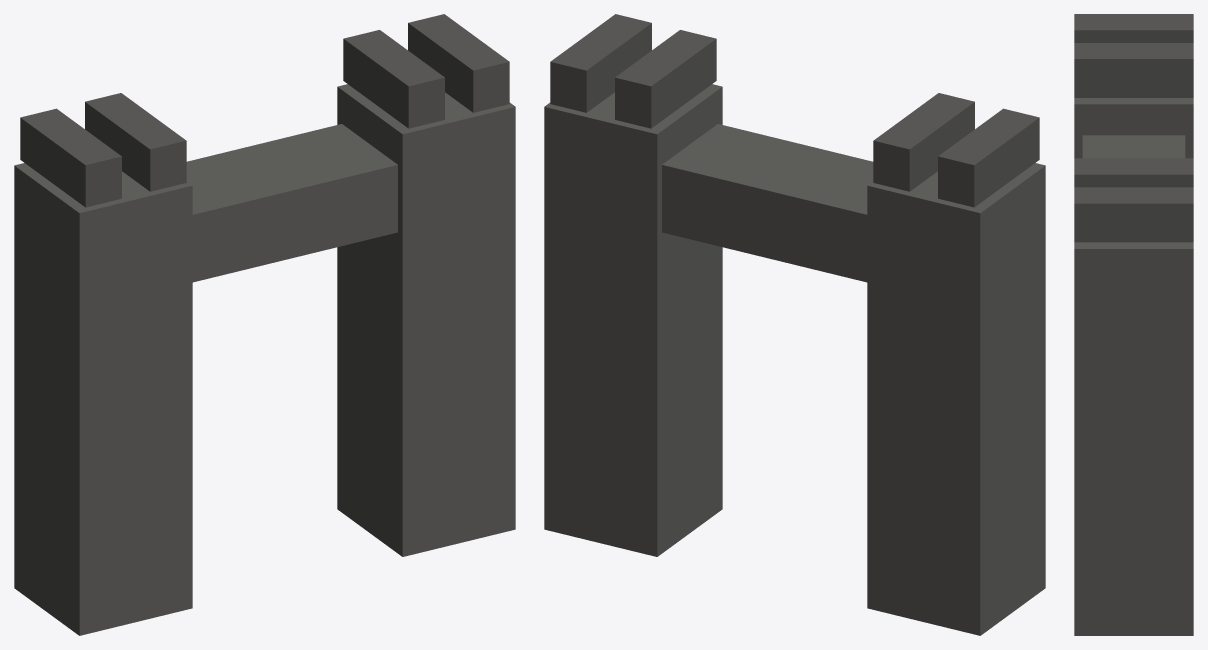
Rendered from gate_tower.glb.
3 views of the same model, side by side, from view 1: azimuth 30°, elevation 25°; view 2: azimuth 150°, elevation 25°; view 3: azimuth 270°, elevation 25° (orthographic). The views are drawn at different scales.
Parts seen in each view (by area): view 1: gate_tower; view 2: gate_tower; view 3: gate_tower.
Boxes of the visible parts, x1,y1,x2,y2 form: gate_tower: (14,14,515,635); gate_tower: (544,14,1045,635); gate_tower: (1074,14,1193,635).
Bounding box in the file's own units: 5.4 × 5.55 × 1.4.
1 material, 1 textured.
